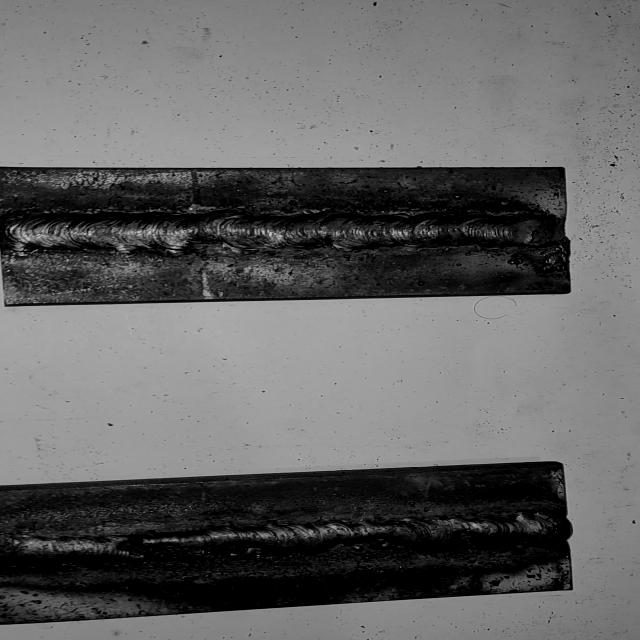Bad Weld: (0, 515, 566, 566)
Defect: (109, 529, 274, 573)
Good Weld: (0, 212, 562, 252)
